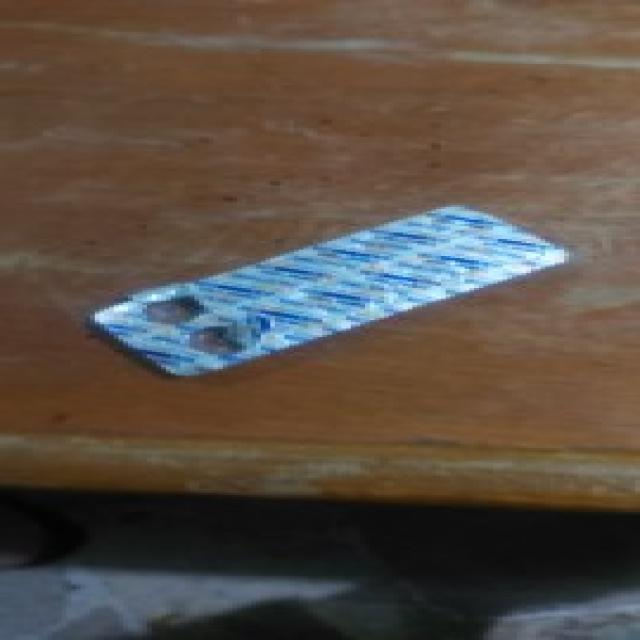Cacat: (91, 205, 583, 382)
Kemasan: (142, 291, 263, 357)
